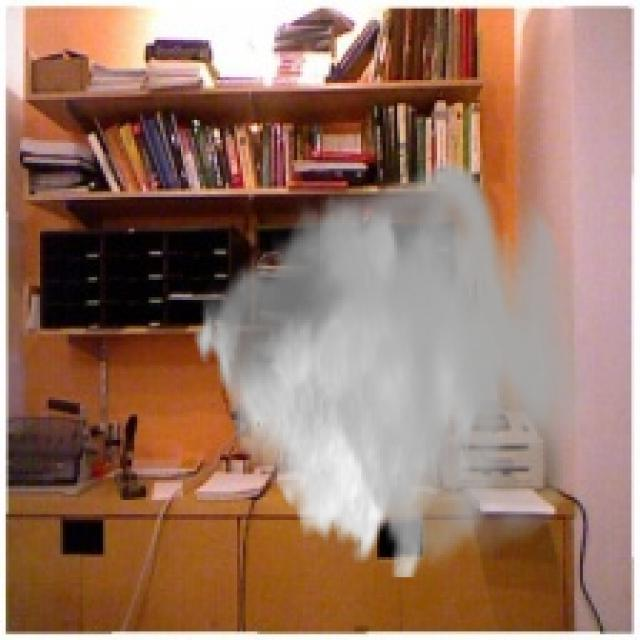smoke: (192, 154, 588, 577)
